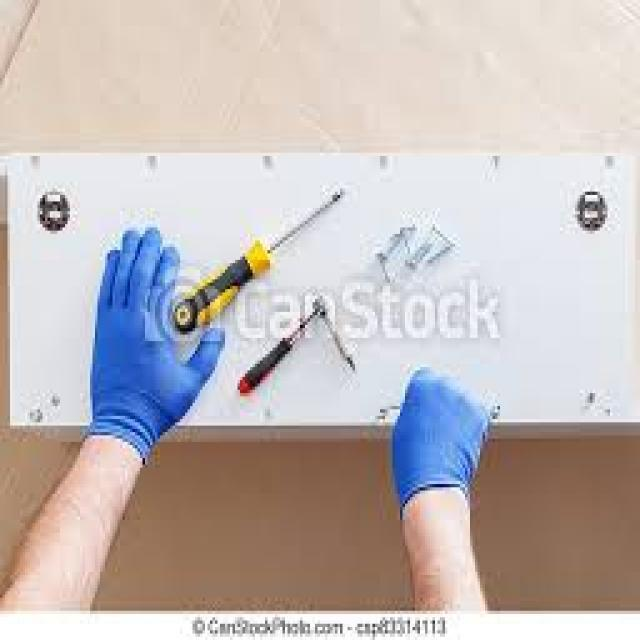screwdriver: (170, 182, 352, 341)
